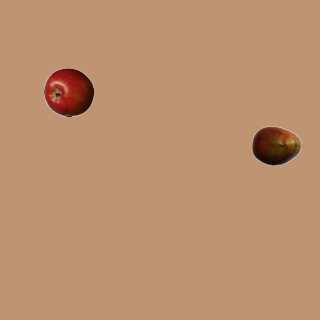Apple Braeburn: (43, 67, 93, 117)
Mango Red: (251, 120, 301, 170)
